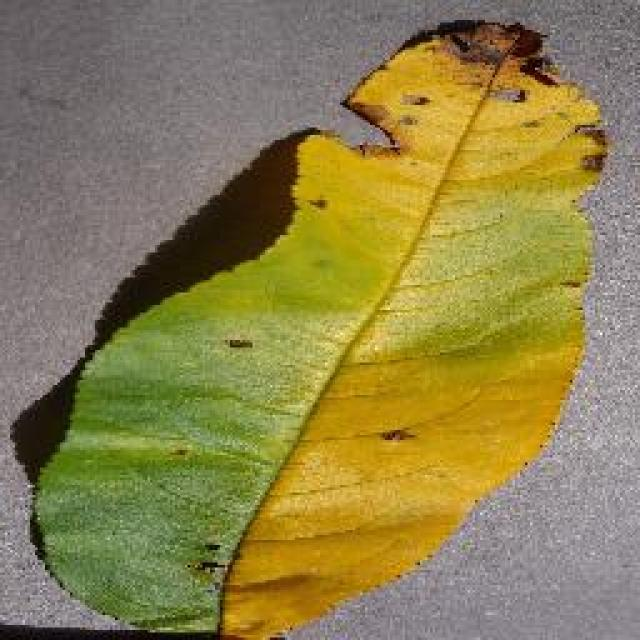Pea_Bacterial_spot: (310, 6, 621, 189), (174, 521, 238, 594), (354, 404, 426, 461)
